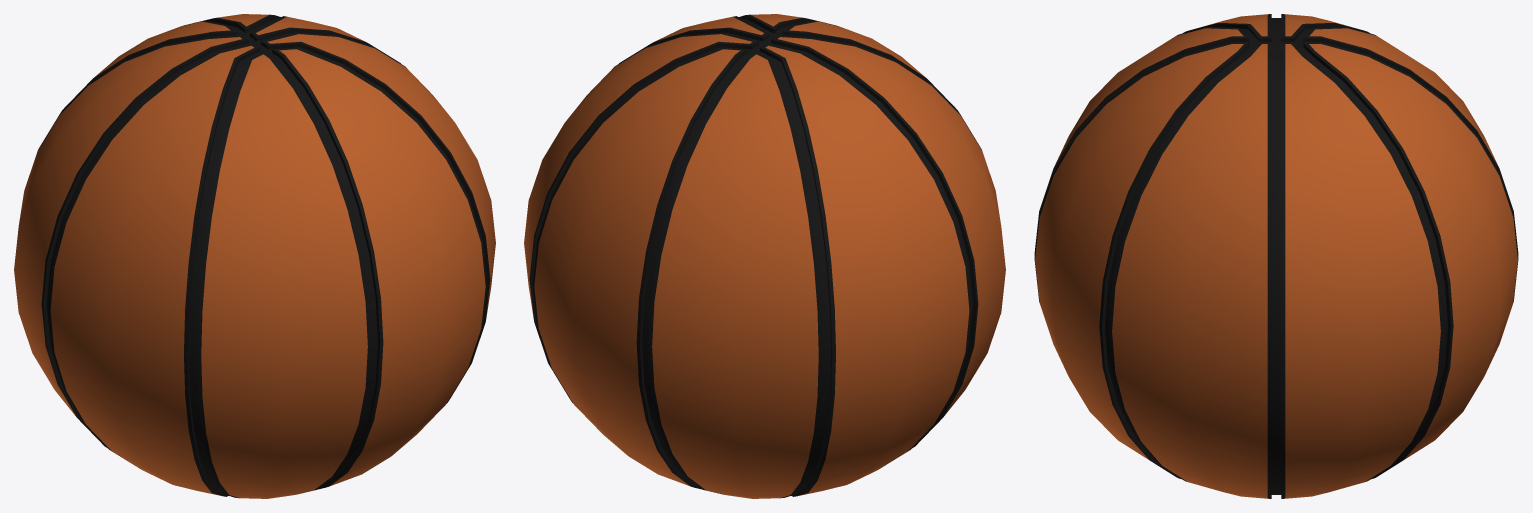
Rendered from b.top.fbx.
3 renders of one model, left to right at view 1: azimuth 30°, elevation 25°; view 2: azimuth 150°, elevation 25°; view 3: azimuth 270°, elevation 25°, orthographic.
Visible parts, largest first — view 1: top; view 2: top; view 3: top.
Part boxes in pixels (x1,y1,x2,y2): top: (14, 14, 495, 498); top: (524, 14, 1005, 498); top: (1034, 14, 1518, 498).
Bounding box in the file's own units: 39.99 × 39.42 × 39.99.
